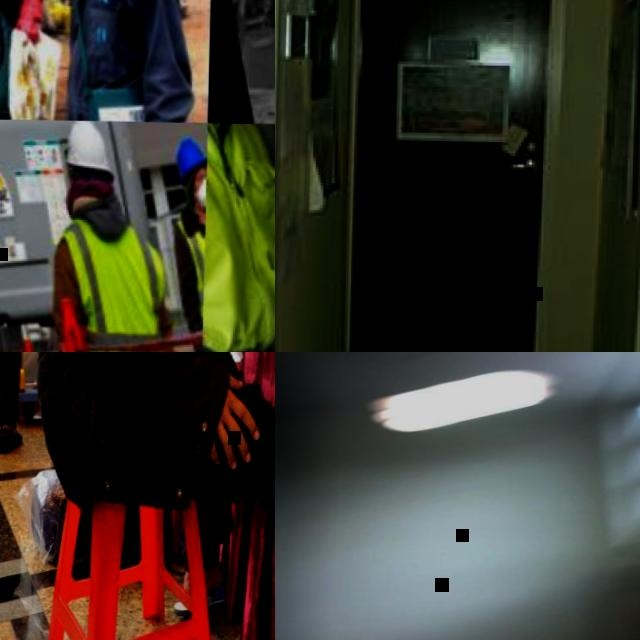Hardhat: (65, 116, 116, 177), (175, 138, 206, 182)
Mask: (194, 180, 205, 209)
NO-Safety Vest: (52, 352, 209, 431), (67, 0, 171, 117), (225, 0, 275, 83)
Person: (28, 352, 275, 640), (50, 118, 187, 352), (41, 0, 202, 119), (203, 121, 275, 352), (167, 136, 207, 352), (223, 0, 275, 93)
Safety Vest: (51, 217, 182, 352), (199, 122, 275, 352)
